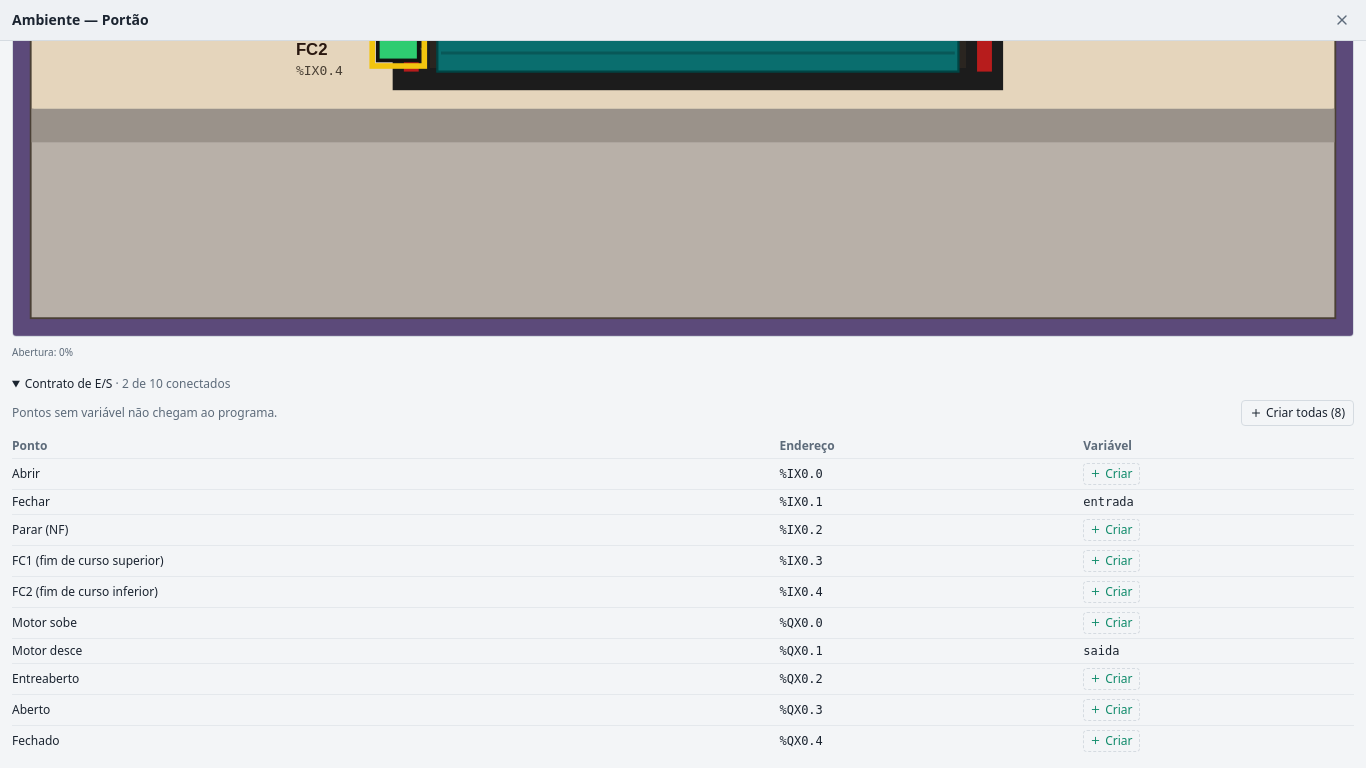
Test: PainelAmbiente — contrato de E/S (revisão 2026-09-23) › ponto sem variável oferece "Criar", que abre o modal com endereço fixo e nome do contrato
(page scrolled)
Click the button with aria-label "Criar variável para Abrir (%IX0.0)": (1111, 474) x1=1083 y1=463 x2=1140 y2=485
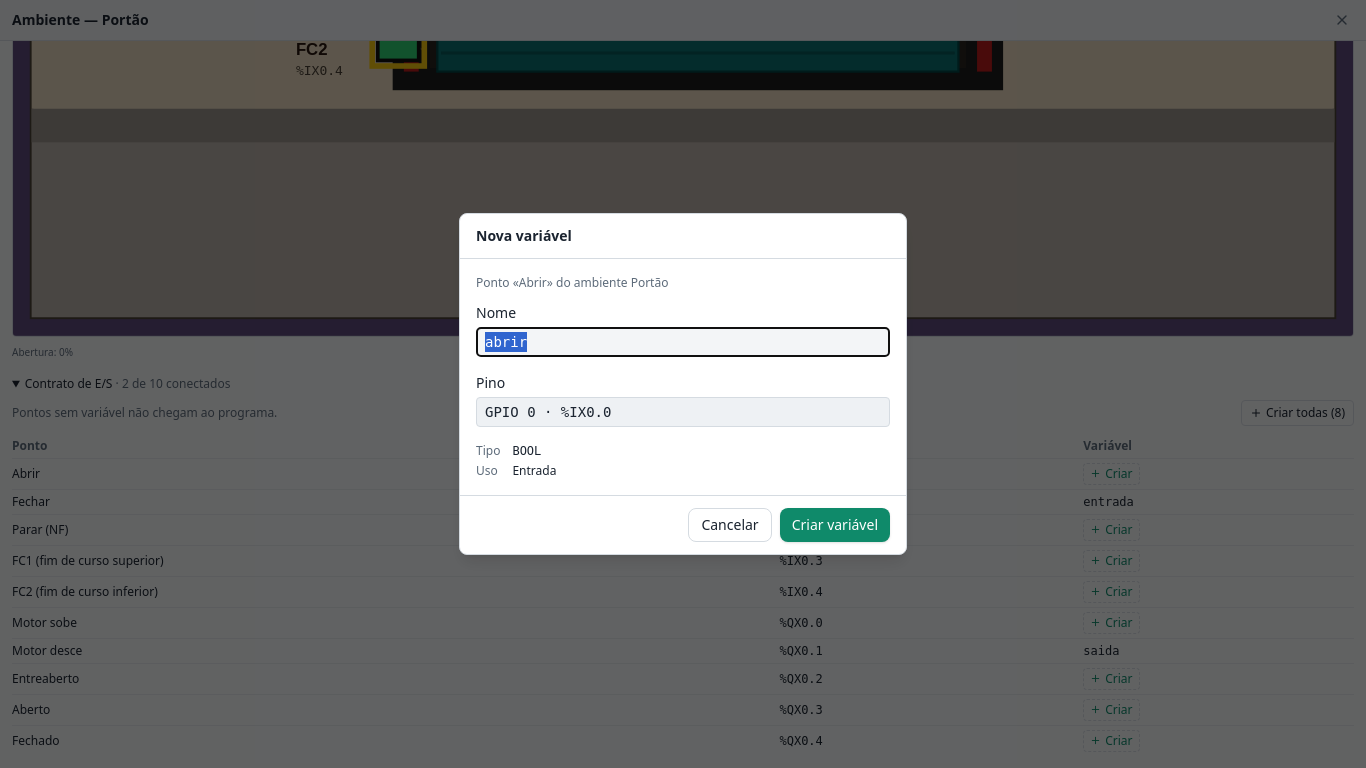
Check: the text "Ponto «Abrir» do ambiente Portão" is shown, box x1=476 y1=274 x2=668 y2=291
Check: the field labelled "Nome" holds "abrir", box x1=476 y1=327 x2=890 y2=357
Check: the text "GPIO 0 · %IX0.0" is shown, box x1=476 y1=397 x2=890 y2=427
Click the button "Criar variável": (835, 525) x1=780 y1=508 x2=890 y2=542
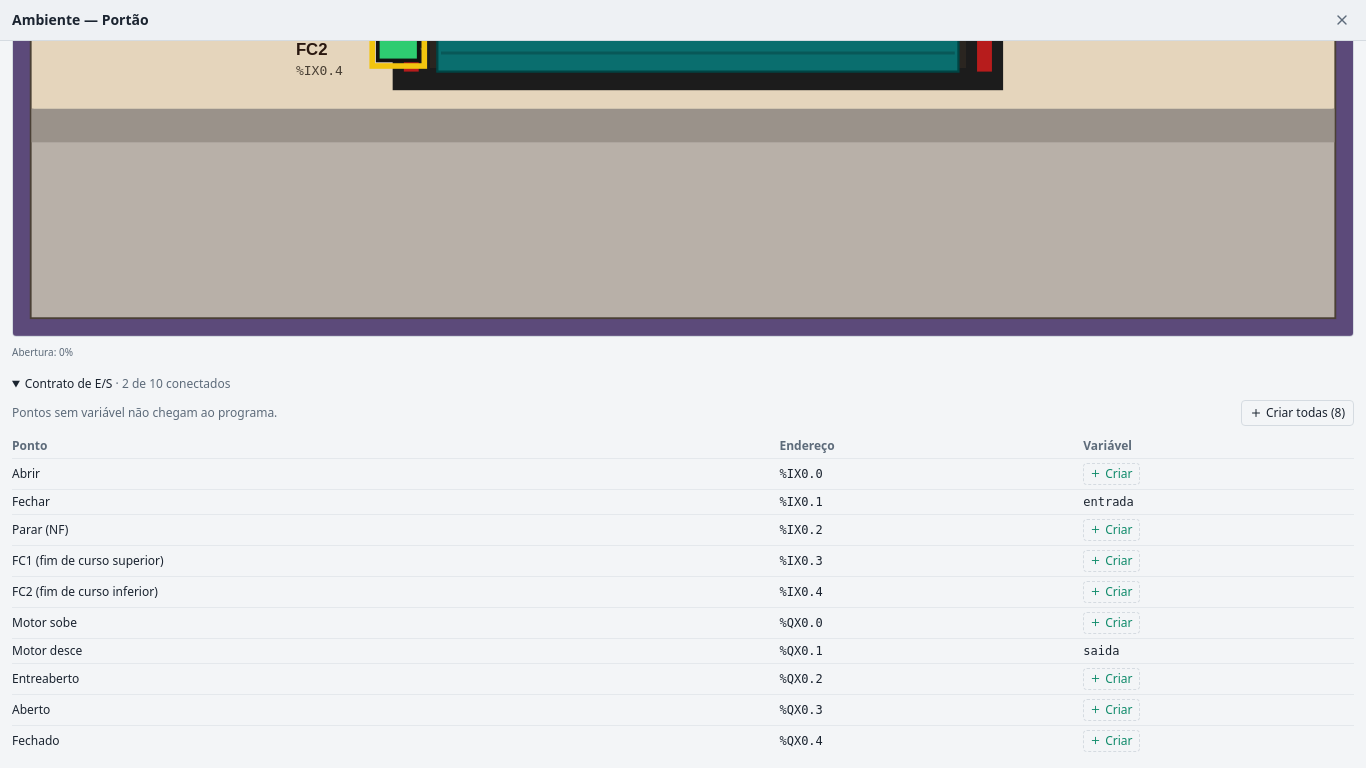
Check: the dialog is gone
